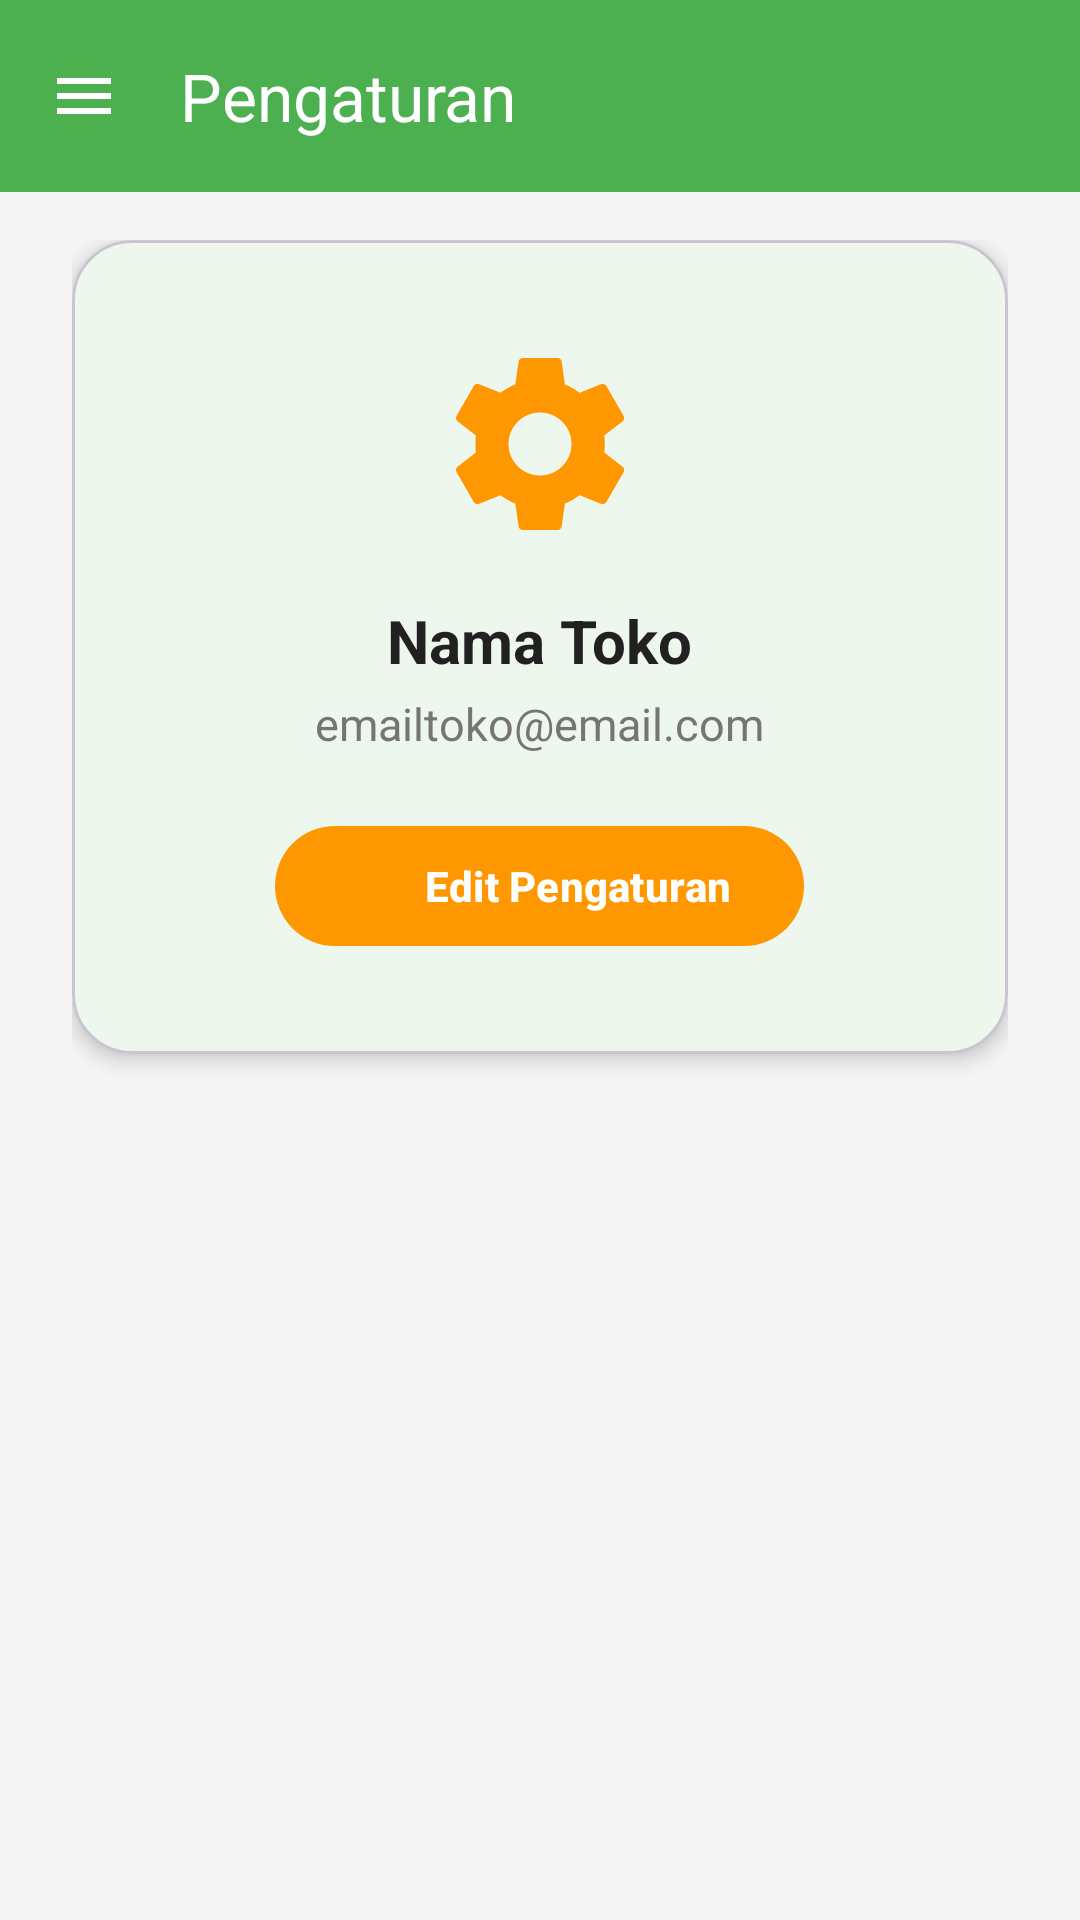

Named icons in this screenshot (1080 × 1920) and their bounding boxes, (x1,y1,x2,y2):
Settings Icon: (456,358,625,530)
